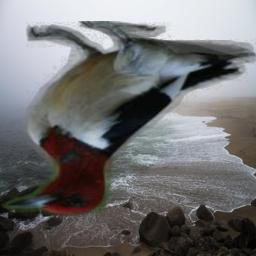Woodpecker: (0, 21, 256, 216)
